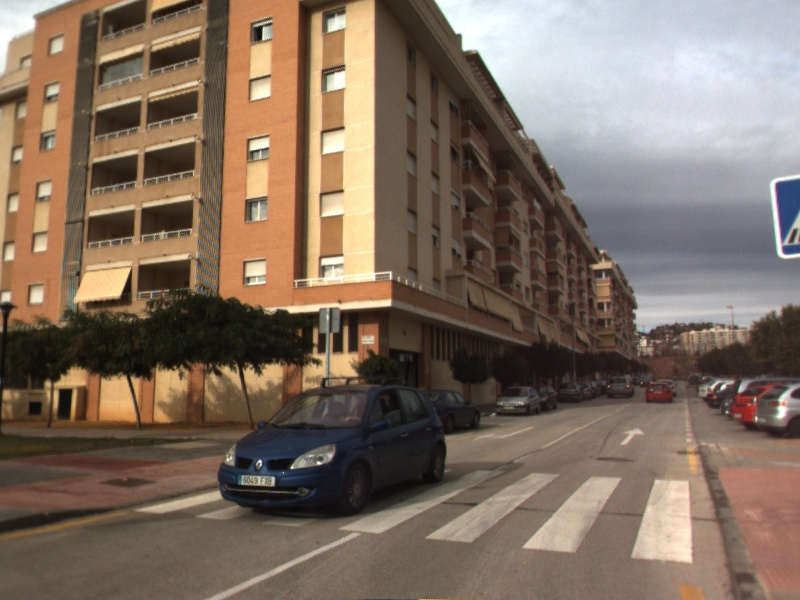STRAIGHT: (618, 426, 646, 447)
